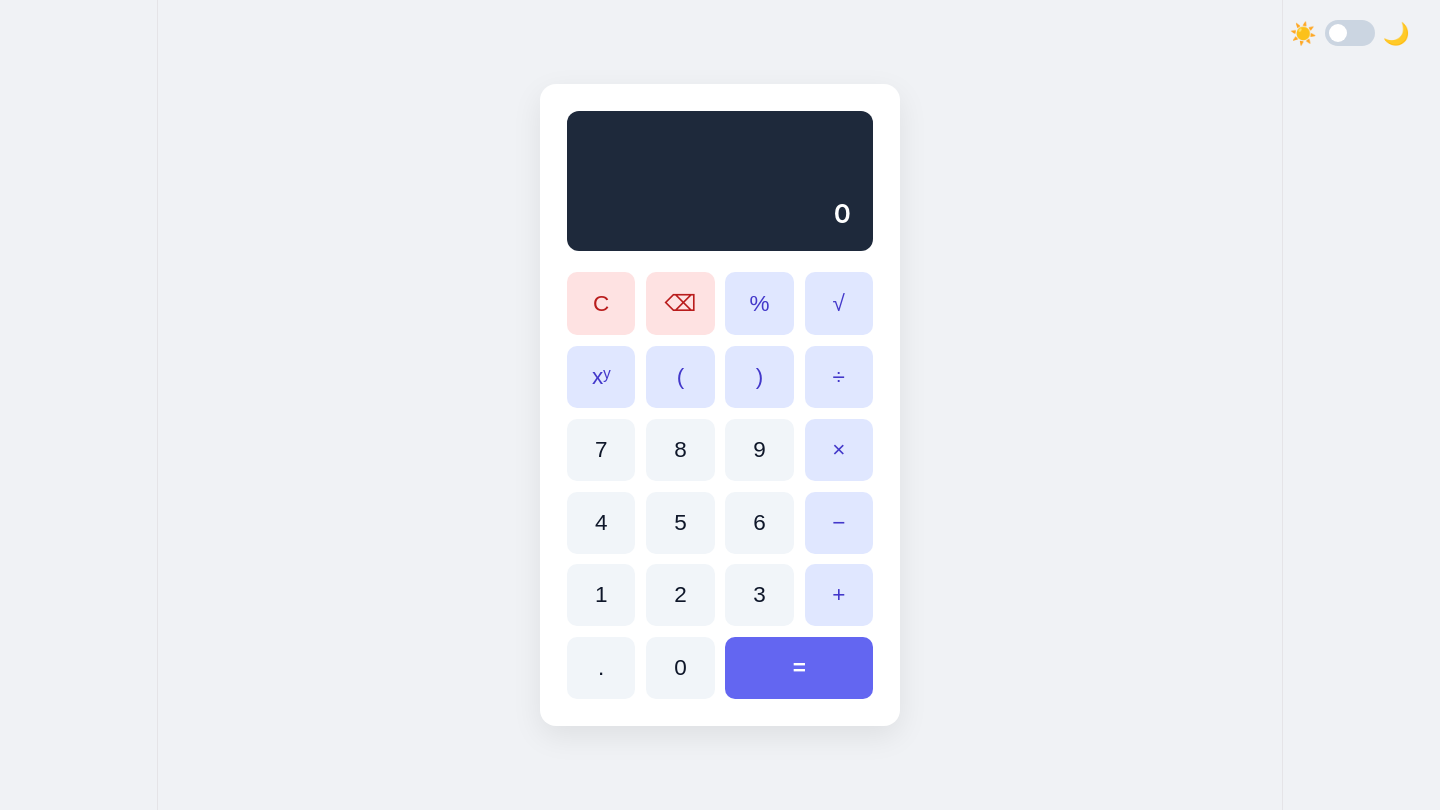
Scenario: Scientific Calculator Component › deletes a single character on Backspace (⌫)
The width and height of the screenshot is (1440, 810).
What coordinates should you click on to do the following:
click the button "1"
I would click on:
 (601, 596)
Its box is [567,564,635,626].
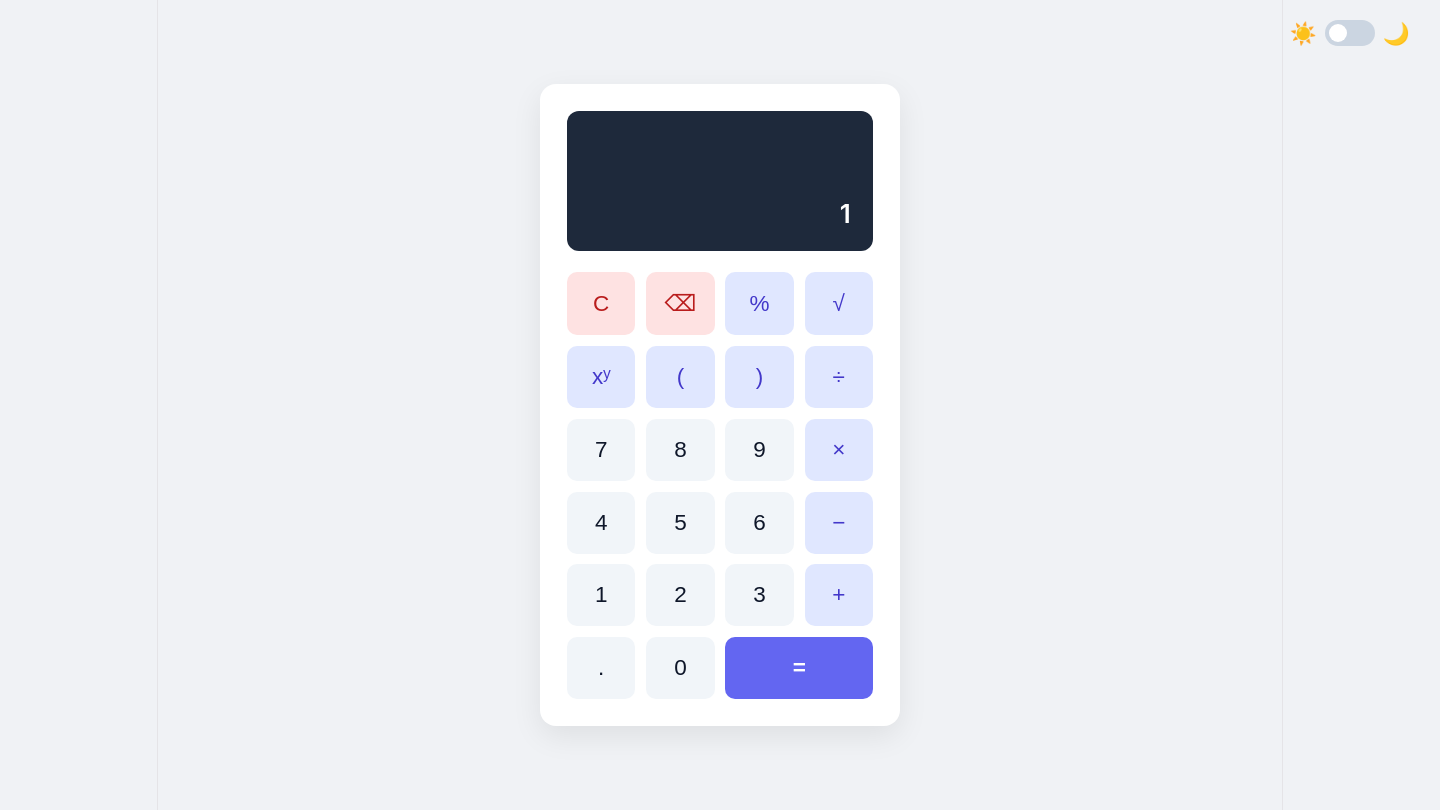
What coordinates should you click on to do the following:
click the button "2"
I would click on:
 (680, 596)
Its box is [646,564,715,626].
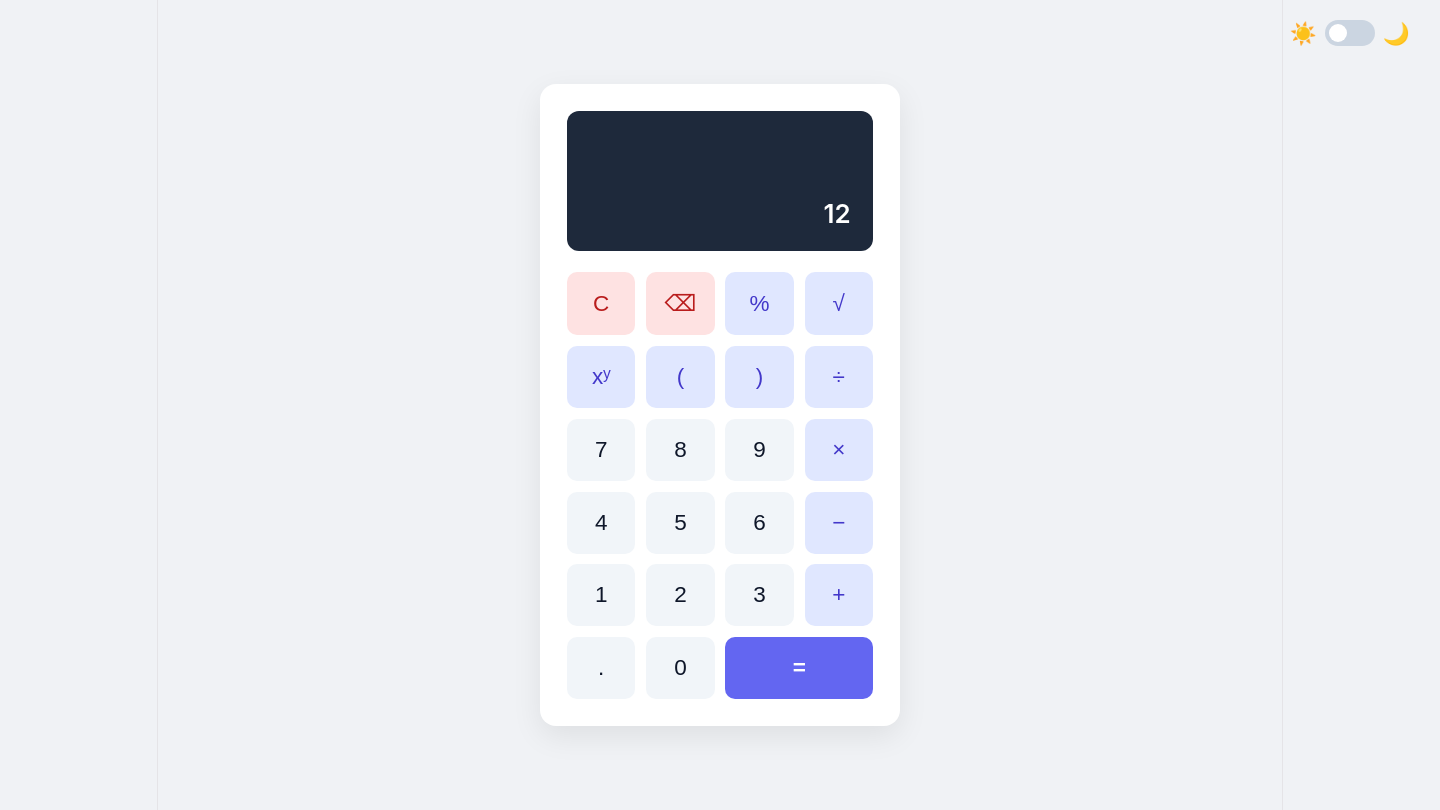
What coordinates should you click on to do the following:
click the button "3"
I would click on:
 (760, 596)
Its box is [725,564,794,626].
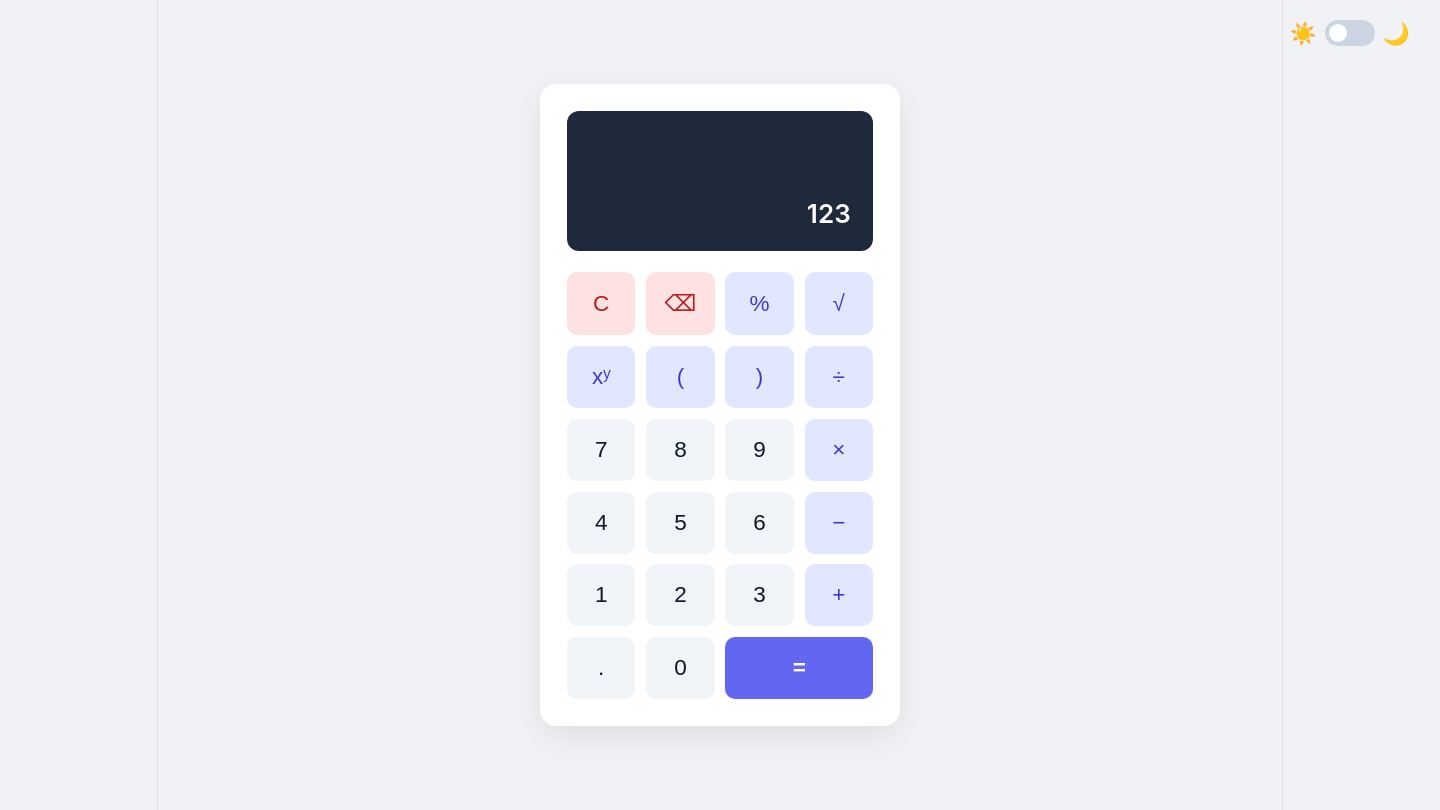
Result: the text with test id "display" reads "123" at [807,198,851,229]
What coordinates should you click on to do the following:
click the button "⌫"
I would click on:
 (680, 304)
Its box is [646,272,715,335].
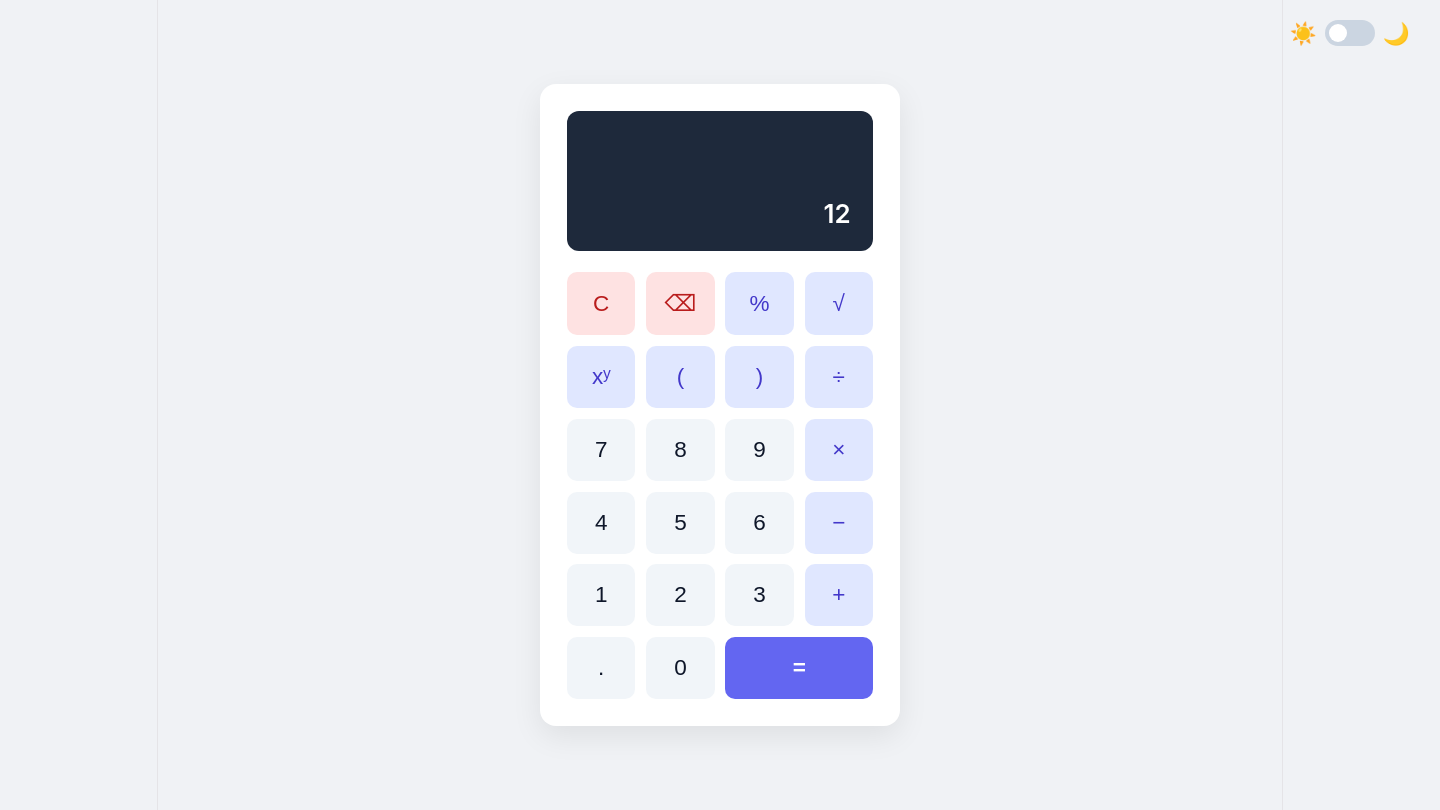
Result: the text with test id "display" reads "12" at [823,198,851,229]
